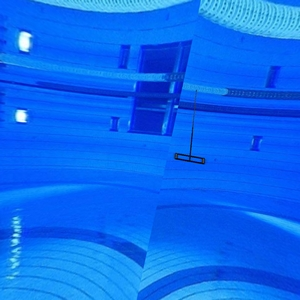circle: (172, 88, 209, 170)
